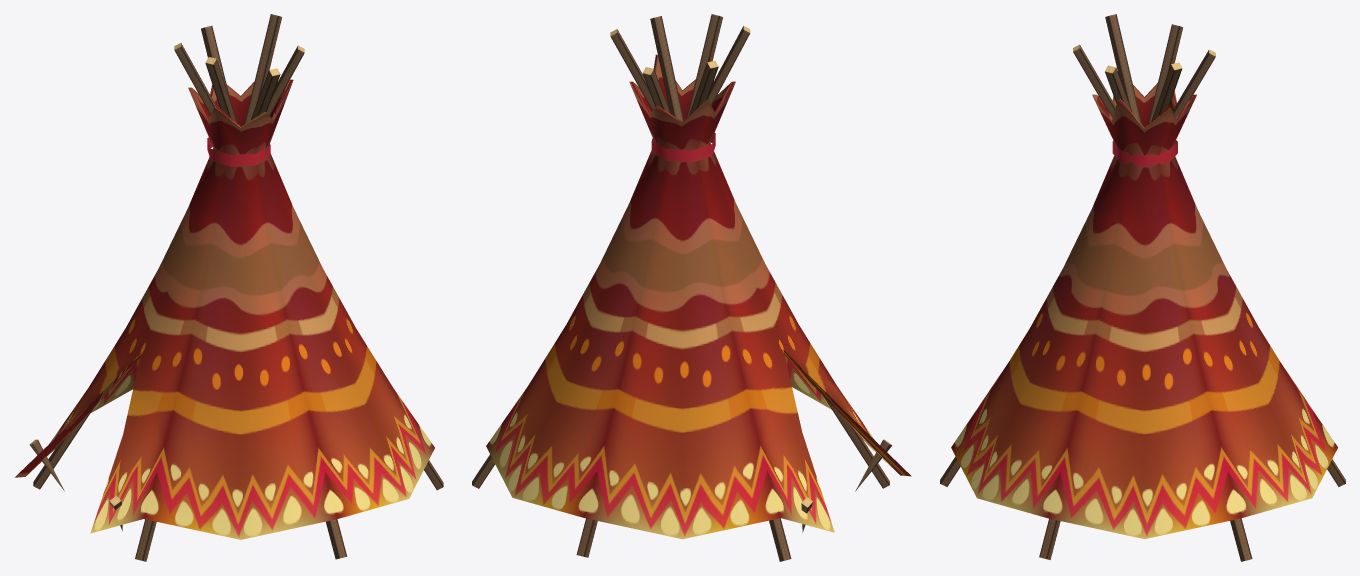
The model's file is Teepee_04.FBX.
3 views of the same model, side by side, from view 1: azimuth 30°, elevation 25°; view 2: azimuth 150°, elevation 25°; view 3: azimuth 270°, elevation 25° (orthographic).
Parts seen in each view (by area): view 1: Teepee_04; view 2: Teepee_04; view 3: Teepee_04.
Part boxes in pixels (x1,y1,x2,y2): Teepee_04: (15, 14, 443, 561); Teepee_04: (472, 14, 911, 561); Teepee_04: (940, 14, 1345, 561).
Size of the model in its own units: 5.12 by 6.22 by 5.07.
